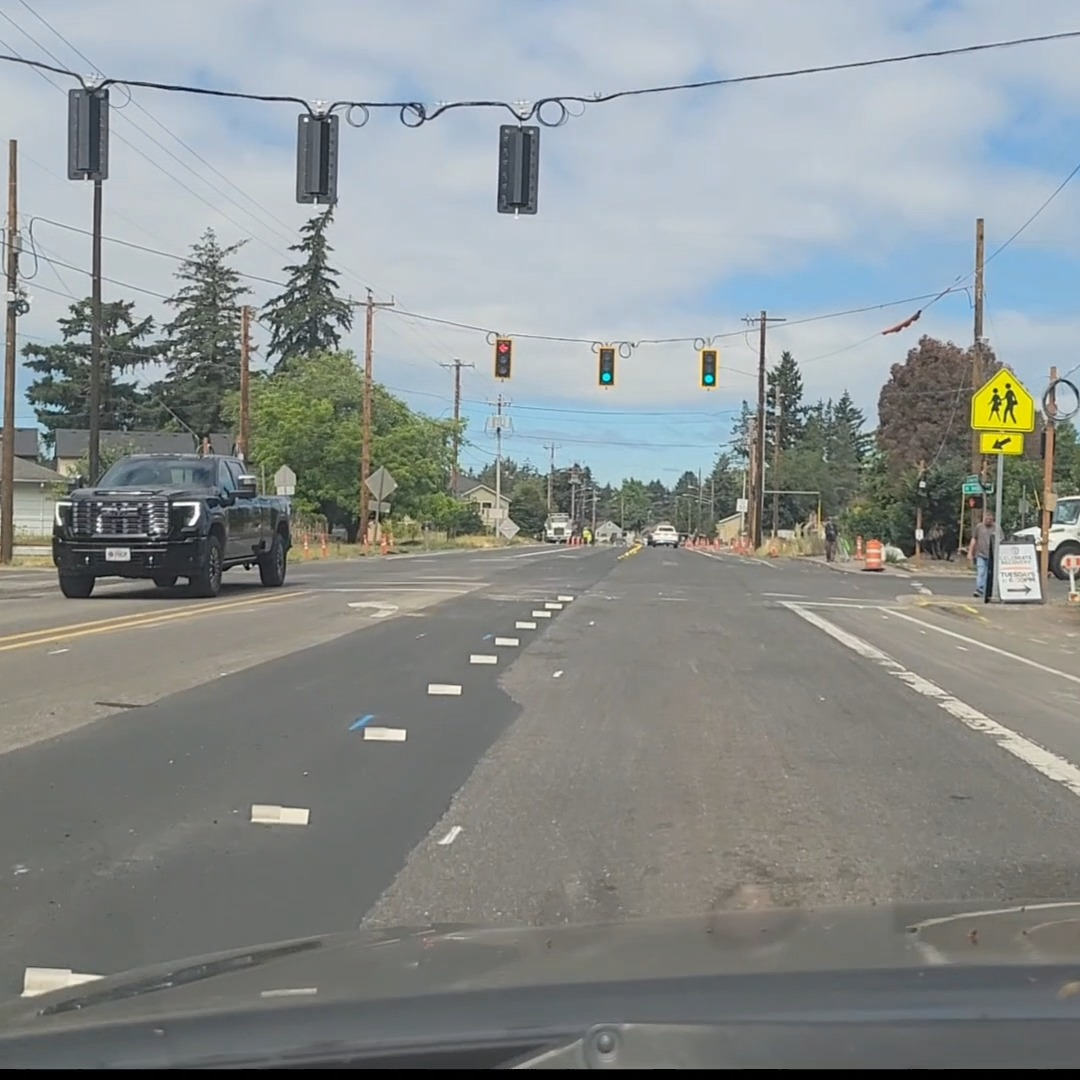car: (646, 524, 679, 547)
delineator: (360, 525, 395, 555), (294, 527, 326, 558), (767, 537, 779, 557), (855, 535, 864, 560), (741, 538, 750, 554)
